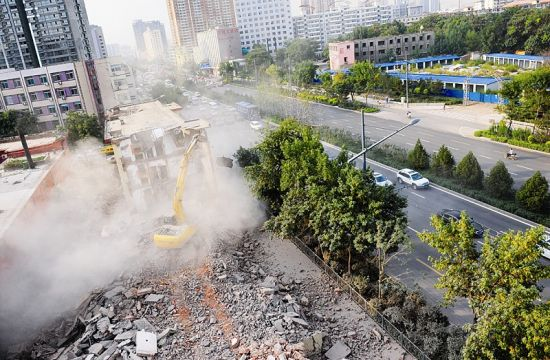dust: (10, 146, 251, 288)
